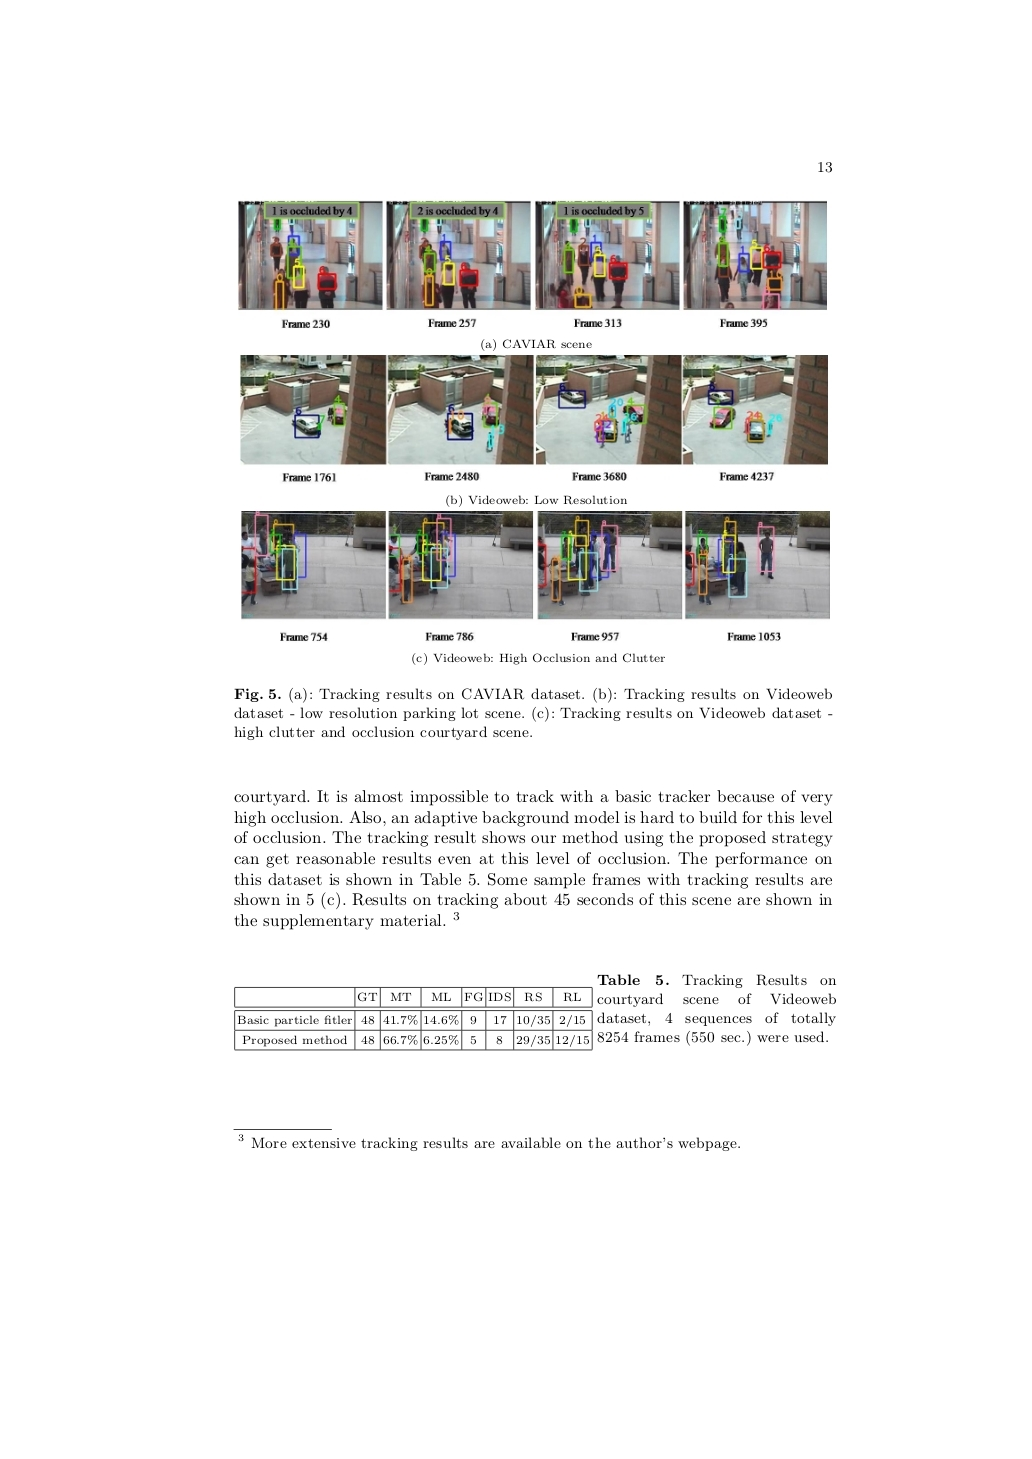Table: (235, 987, 592, 1050)
figure: (240, 355, 388, 464), (535, 355, 682, 464), (386, 355, 533, 464), (681, 355, 826, 464), (238, 200, 382, 309), (386, 200, 531, 309), (535, 200, 679, 309), (388, 511, 533, 620), (537, 511, 682, 620), (684, 511, 829, 620), (684, 200, 826, 309), (241, 511, 385, 620)
